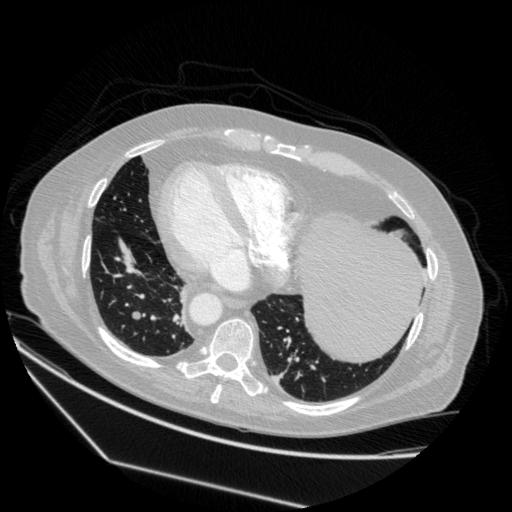nodule: (130, 308, 147, 325)
